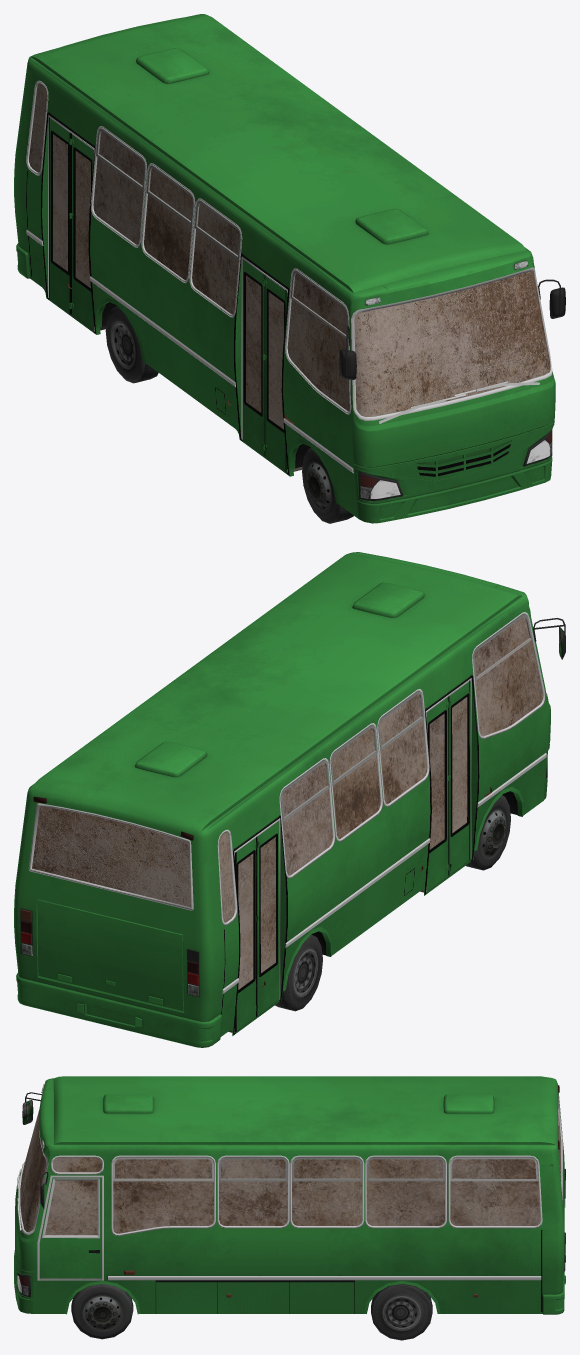
3 views of the same model, one above another, from view 1: azimuth 30°, elevation 25°; view 2: azimuth 150°, elevation 25°; view 3: azimuth 270°, elevation 25° (orthographic). The views are drawn at different scales.
Visible parts, largest first — view 1: kuzov, windows, door2, wheelsb, doorglass2, doorglass1, doorglass3, wheelfr, doorglass4, door4, door1, door3 (+2 smaller); view 2: kuzov, windows, door3, door1, wheelsb, doorglass1, doorglass3, door2, doorglass4, doorglass2, wheelfr, interior (+1 smaller); view 3: kuzov, windows, wheelsb, wheelfl.
Part boxes in pixels (x1=…): kuzov: x1=14, y1=14, x2=565, y2=523; windows: x1=29, y1=83, x2=550, y2=416; door2: x1=242, y1=259, x2=264, y2=455; wheelsb: x1=105, y1=306, x2=158, y2=383; doorglass2: x1=246, y1=275, x2=261, y2=412; doorglass1: x1=268, y1=292, x2=283, y2=429; doorglass3: x1=75, y1=151, x2=90, y2=288; wheelfr: x1=302, y1=448, x2=353, y2=523; doorglass4: x1=53, y1=134, x2=67, y2=271; door4: x1=50, y1=118, x2=71, y2=314; door1: x1=262, y1=276, x2=287, y2=471; door3: x1=69, y1=134, x2=93, y2=330; kuzov: x1=14, y1=552, x2=565, y2=1047; windows: x1=32, y1=617, x2=542, y2=922; door3: x1=257, y1=821, x2=279, y2=1015; door1: x1=448, y1=681, x2=470, y2=875; wheelsb: x1=275, y1=934, x2=322, y2=1011; doorglass1: x1=452, y1=697, x2=467, y2=832; doorglass3: x1=260, y1=837, x2=275, y2=972; door2: x1=426, y1=697, x2=450, y2=891; doorglass4: x1=238, y1=853, x2=253, y2=989; doorglass2: x1=429, y1=713, x2=444, y2=849; wheelfr: x1=465, y1=795, x2=510, y2=870; interior: x1=228, y1=678, x2=477, y2=1032; kuzov: x1=14, y1=1076, x2=565, y2=1314; windows: x1=20, y1=1110, x2=561, y2=1235; wheelsb: x1=371, y1=1284, x2=432, y2=1340; wheelfl: x1=71, y1=1284, x2=133, y2=1339.
Size of the model in its own units: 2.63 by 2.84 by 6.93.
